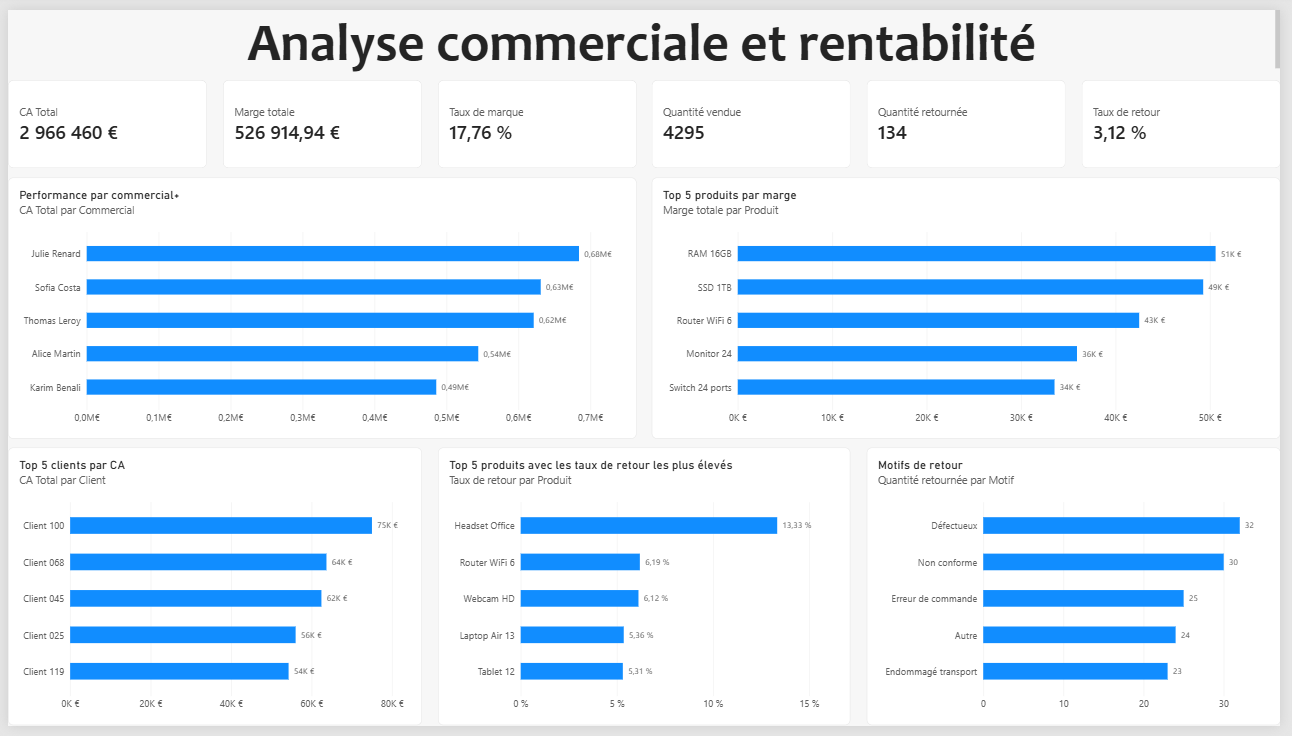

The dashboard page shown, as its layout file describes it:
{"tool":"powerbi","page":{"name":"Page 6","canvas":[1920,1080],"ordinal":5},"visuals":[{"type":"cardVisual","fields":{"Data":["Ventes.CA Total"]},"box":[0,105.7,300,134],"z":0},{"type":"cardVisual","fields":{"Data":["Ventes.Marge totale"]},"box":[324.2,105.7,300,134],"z":1000},{"type":"cardVisual","fields":{"Data":["Ventes.Taux de marque"]},"box":[648.3,105.7,300,134],"z":2000},{"type":"cardVisual","fields":{"Data":["Ventes.Quantité vendue"]},"box":[972.5,105.7,300,134],"z":3000},{"type":"cardVisual","fields":{"Data":["Retours.Quantité retournée"]},"box":[1296.6,105.7,300,134],"z":4000},{"type":"cardVisual","fields":{"Data":["Retours.Taux de retour"]},"box":[1620,105.7,300,134],"z":5000},{"type":"clusteredBarChart","title":"Performance par commercial","fields":{"Category":["Ventes.Commercial"],"Y":["Ventes.CA Total"]},"box":[0,252.8,949.1,394.3],"z":6000},{"type":"clusteredBarChart","title":"Top 5 produits par marge","fields":{"Category":["Produits.Produit"],"Y":["Ventes.Marge totale"]},"box":[971.7,252.8,949.1,394.3],"z":7000},{"type":"clusteredBarChart","title":"Top 5 clients par CA","fields":{"Category":["Clients.Client"],"Y":["Ventes.CA Total"]},"box":[0,660.4,624.5,418.9],"z":8000},{"type":"clusteredBarChart","title":"Top 5 produits avec les taux de retour les plus élevés","fields":{"Category":["Produits.Produit"],"Y":["Retours.Taux de retour"]},"box":[649.1,660.4,622.6,418.9],"z":9000},{"type":"clusteredBarChart","title":"Motifs de retour","fields":{"Category":["Retours.Motif"],"Y":["Retours.Quantité retournée"]},"box":[1296.2,660.4,624.5,418.9],"z":10000},{"type":"textbox","box":[0,0,1271.7,92.5],"z":11000},{"type":"slicer","fields":{"Values":["Calendrier.Annee"]},"box":[1312.5,-0.4,186.8,105.7],"z":12000},{"type":"slicer","fields":{"Values":["Ventes.Commercial"]},"box":[1516.2,-0.4,186.8,105.7],"z":13000},{"type":"slicer","fields":{"Values":["Produits.Produit"]},"box":[1720,-0.4,186.8,105.7],"z":14000}]}

Visuals, with their boxes in screenshot pixels (x1, y1, x2, y2), scaled from the page's 1920x1080 canvas onto the 1292x736 screenshot:
cardVisual - Ventes.CA Total: (0,72,202,163)
cardVisual - Ventes.Marge totale: (218,72,420,163)
cardVisual - Ventes.Taux de marque: (436,72,638,163)
cardVisual - Ventes.Quantité vendue: (654,72,856,163)
cardVisual - Retours.Quantité retournée: (873,72,1074,163)
cardVisual - Retours.Taux de retour: (1090,72,1291,163)
"Performance par commercial" clusteredBarChart: (0,172,639,441)
"Top 5 produits par marge" clusteredBarChart: (654,172,1291,441)
"Top 5 clients par CA" clusteredBarChart: (0,450,420,735)
"Top 5 produits avec les taux de retour les plus élevés" clusteredBarChart: (437,450,856,735)
"Motifs de retour" clusteredBarChart: (872,450,1291,735)
textbox: (0,0,856,63)
slicer - Calendrier.Annee: (883,0,1009,72)
slicer - Ventes.Commercial: (1020,0,1146,72)
slicer - Produits.Produit: (1157,0,1283,72)
